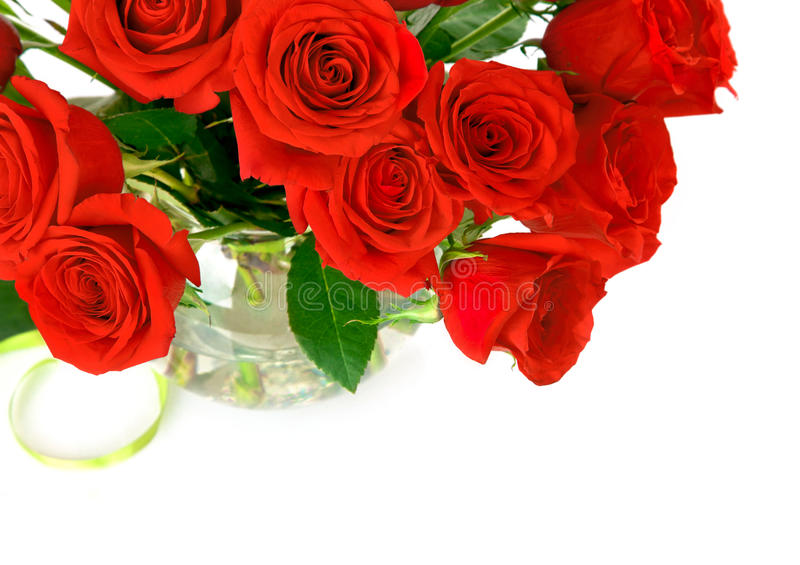RedRose: (231, 0, 427, 198), (12, 190, 209, 373), (536, 94, 687, 303), (422, 225, 604, 396), (519, 0, 747, 131), (298, 128, 460, 293), (429, 43, 575, 221), (0, 77, 124, 285), (60, 0, 259, 116)
